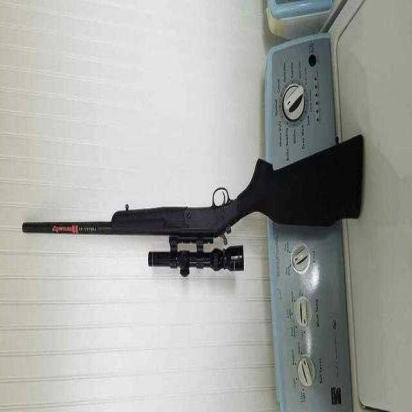Gun: (19, 132, 364, 292)
